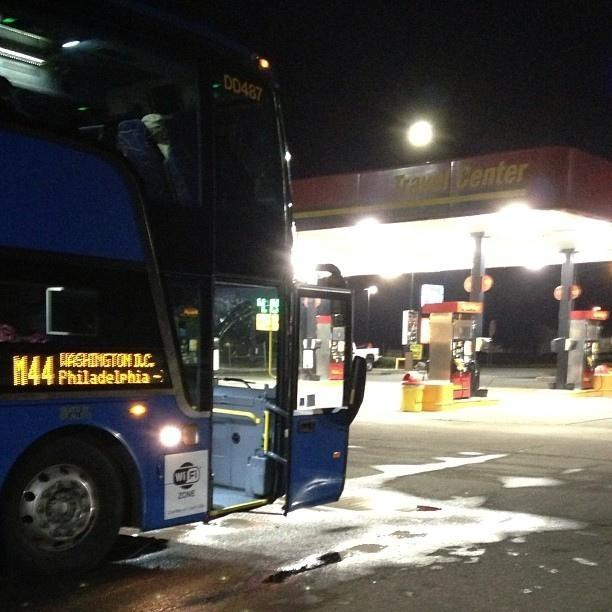bus: (1, 0, 362, 600)
car: (352, 342, 380, 372)
